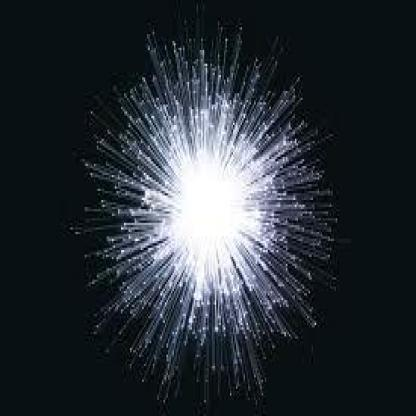other: (138, 124, 276, 286)
